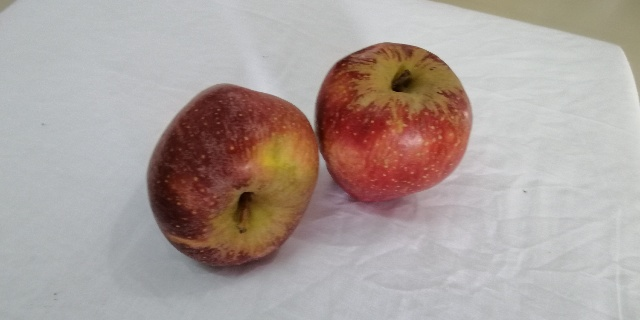apple_kashmir: (146, 83, 318, 269), (317, 40, 475, 204)
